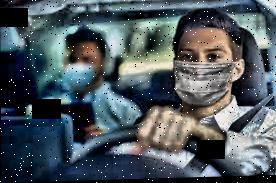seatbelt: (182, 89, 275, 176)
